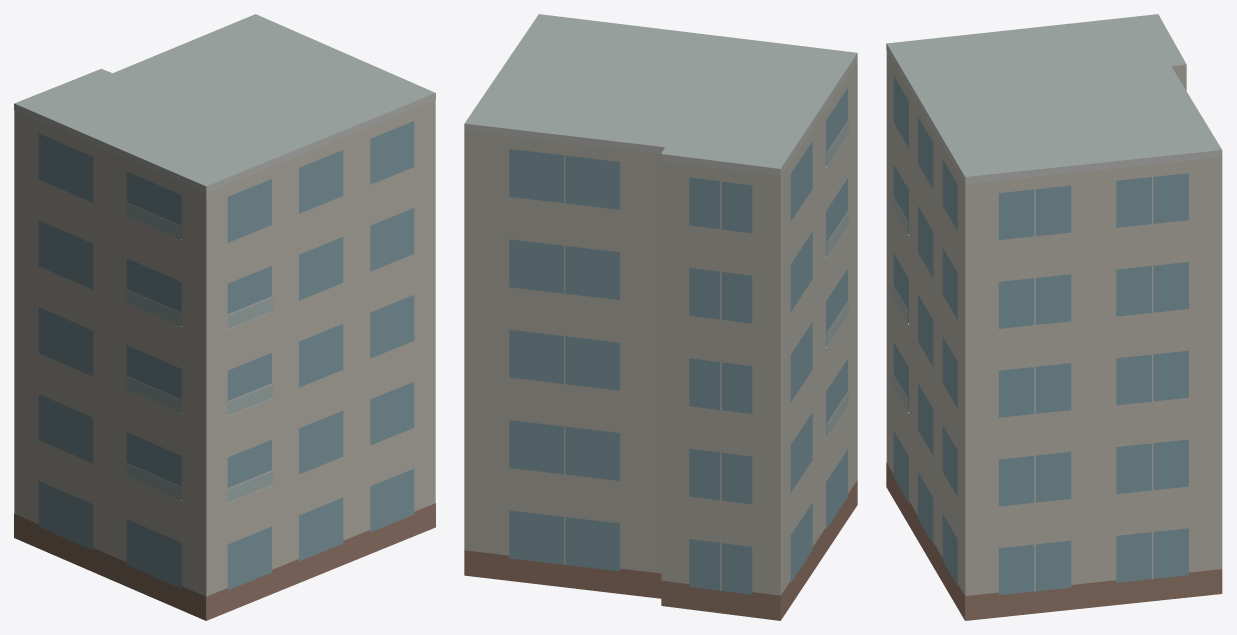
Rendered from survey-upis-32717108.glb.
The picture shows the model from 3 angles, left to right: view 1: azimuth 30°, elevation 25°; view 2: azimuth 150°, elevation 25°; view 3: azimuth 270°, elevation 25°; orthographic projection. The views are drawn at different scales.
Parts seen in each view (by area): view 1: survey-upis-32717108.tmp; view 2: survey-upis-32717108.tmp; view 3: survey-upis-32717108.tmp.
Boxes of the visible parts, bbox=[...] form: survey-upis-32717108.tmp: bbox=[14, 14, 435, 620]; survey-upis-32717108.tmp: bbox=[464, 14, 857, 620]; survey-upis-32717108.tmp: bbox=[886, 14, 1222, 620].
Size of the model in its own units: 12.02 by 15.25 by 10.46.
